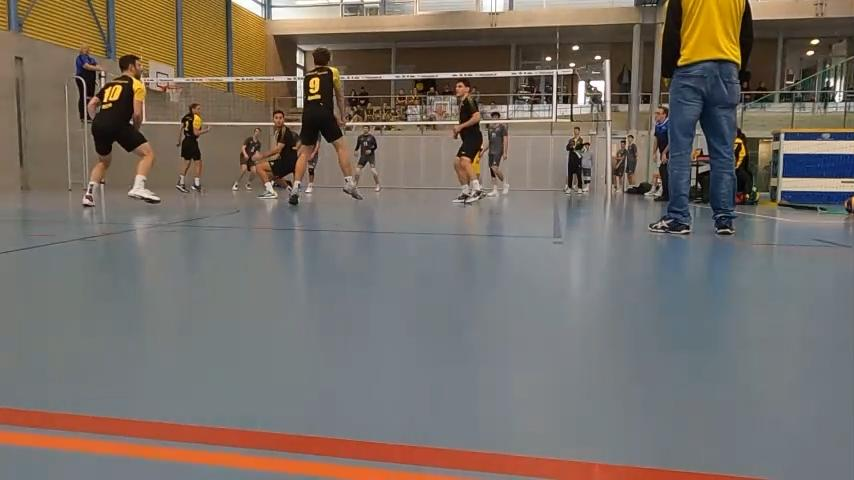Dig: (282, 48, 364, 212)
Player: (82, 55, 160, 206), (255, 110, 299, 198), (453, 79, 483, 203), (176, 103, 209, 192), (232, 127, 261, 190), (354, 125, 380, 191), (487, 123, 508, 196), (305, 138, 319, 193)
